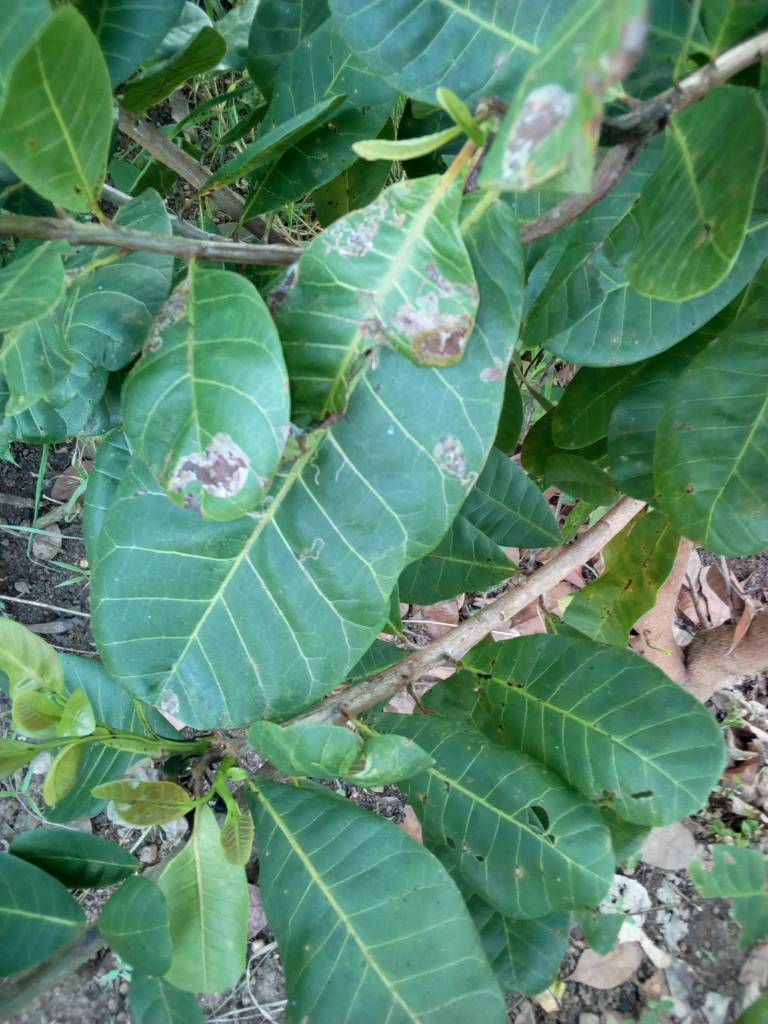Bactériose: (263, 167, 475, 449), (119, 261, 288, 525)
